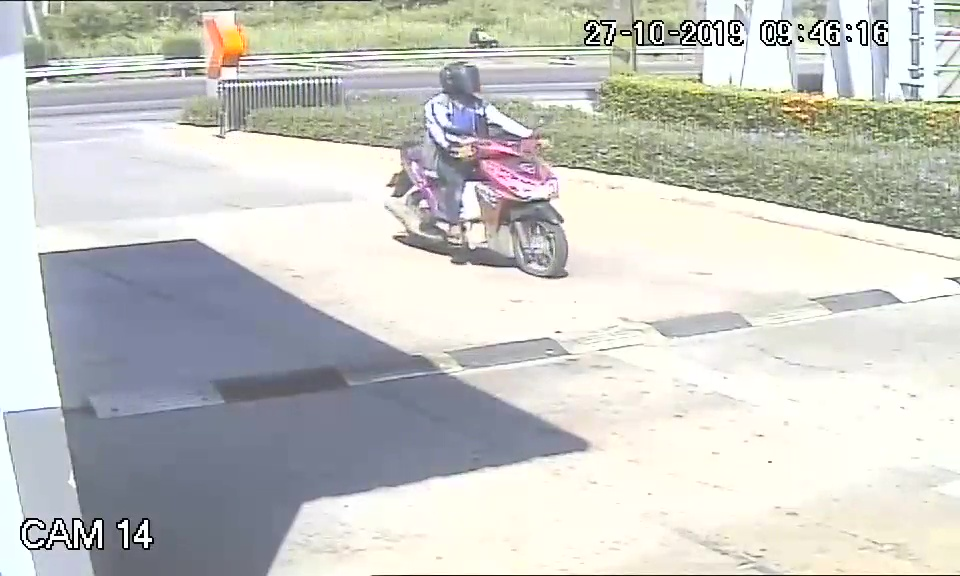motorcycle: (389, 130, 570, 278)
